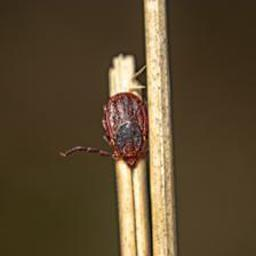Rhipicephalus sanguineus: (59, 92, 150, 169)
